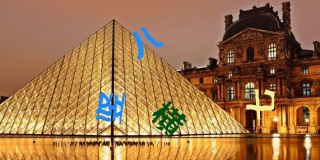七: (245, 88, 275, 119)
八: (133, 26, 164, 60)
横: (152, 101, 187, 139)
竖: (96, 92, 125, 124)
